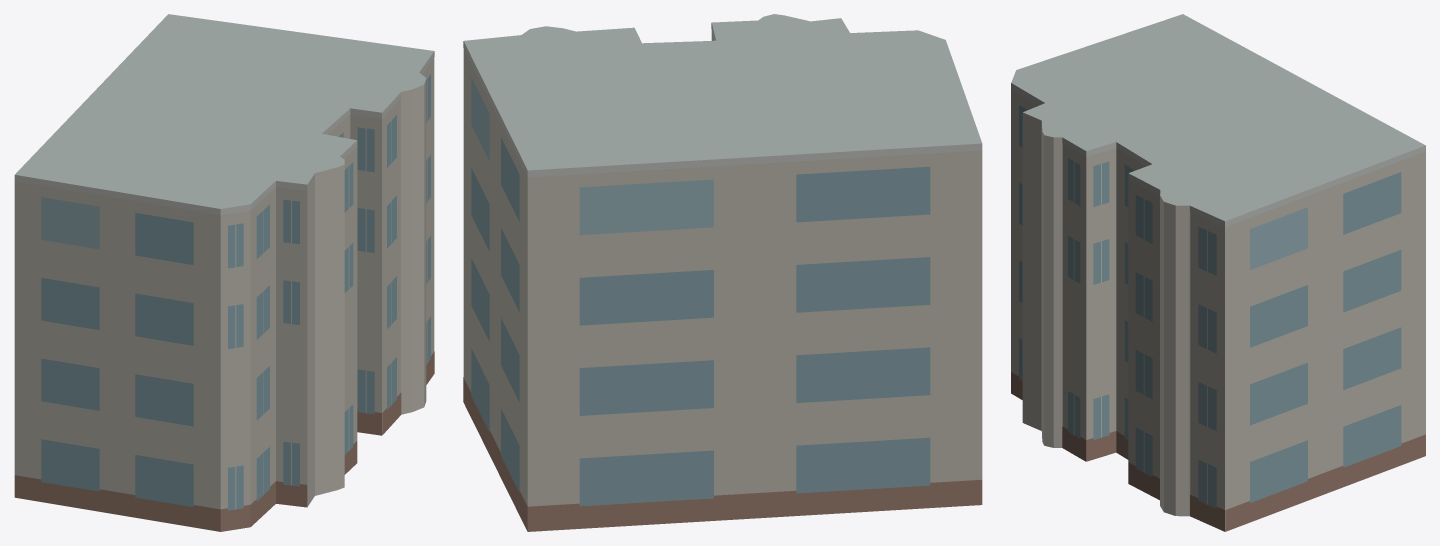
The model's file is survey-upis-32781358.glb.
3 views of the same model, side by side, from view 1: azimuth 30°, elevation 25°; view 2: azimuth 150°, elevation 25°; view 3: azimuth 270°, elevation 25° (orthographic). The views are drawn at different scales.
Visible parts, largest first — view 1: survey-upis-32781358.tmp; view 2: survey-upis-32781358.tmp; view 3: survey-upis-32781358.tmp.
Boxes of the visible parts, x1=… form: survey-upis-32781358.tmp: x1=14, y1=14, x2=434, y2=531; survey-upis-32781358.tmp: x1=463, y1=14, x2=982, y2=531; survey-upis-32781358.tmp: x1=1011, y1=14, x2=1425, y2=531.
Size of the model in its own units: 18.33 by 12.8 by 15.5.
